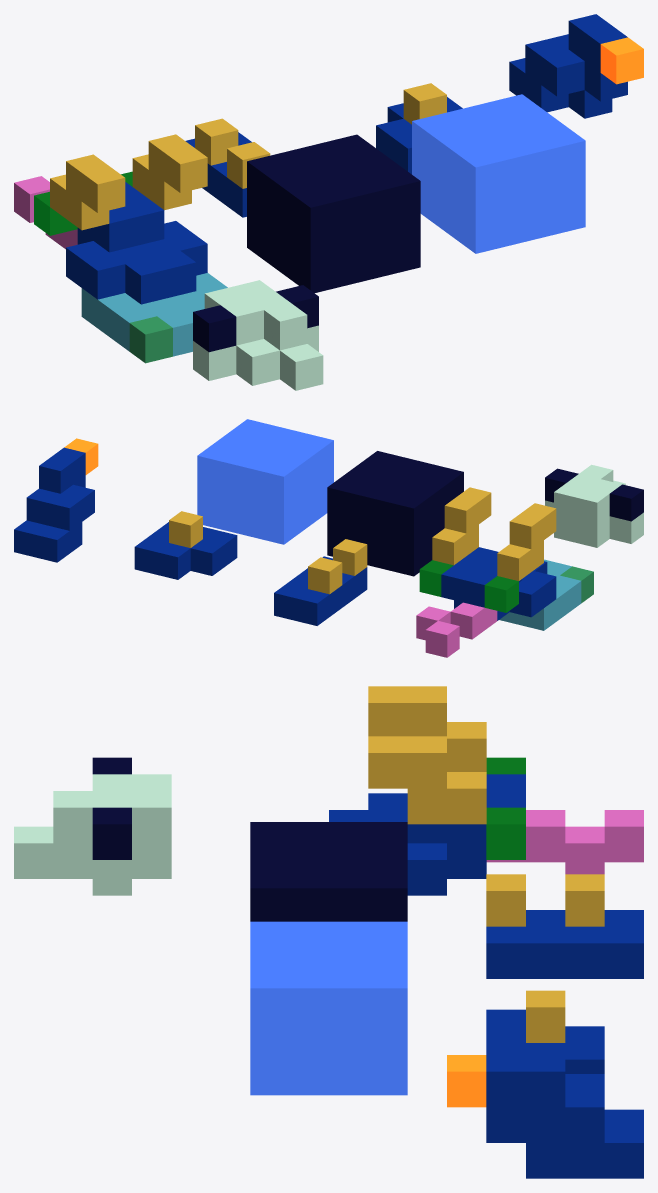
File: dragon_kit.glb
3 views of the same model, one above another, from view 1: azimuth 30°, elevation 25°; view 2: azimuth 150°, elevation 25°; view 3: azimuth 270°, elevation 25° (orthographic). The views are drawn at different scales.
Visible parts, largest first — view 1: wall, water, head, food, tail, floor, straight, turn; view 2: head, water, wall, tail, food, straight, turn, floor; view 3: head, water, tail, wall, food, straight, turn.
Part boxes in pixels (x1,y1,x2,y2): wall: (247,134,420,293); water: (412,94,585,253); head: (14,134,207,304); food: (193,280,323,390); tail: (509,14,643,118); floor: (81,273,227,363); straight: (185,118,270,217); turn: (376,83,462,174); head: (416,487,556,657); water: (197,419,333,544); wall: (327,451,463,576); tail: (14,438,98,562); food: (545,464,643,547); straight: (274,539,367,625); turn: (134,511,237,579); floor: (499,559,593,630); head: (329,686,643,895); water: (250,921,407,1095); tail: (447,1055,643,1178); wall: (250,822,407,921); food: (14,757,171,895); straight: (486,874,643,978); turn: (486,990,604,1073).
Bounding box in the file's own units: 5.25 × 1.25 × 4.
